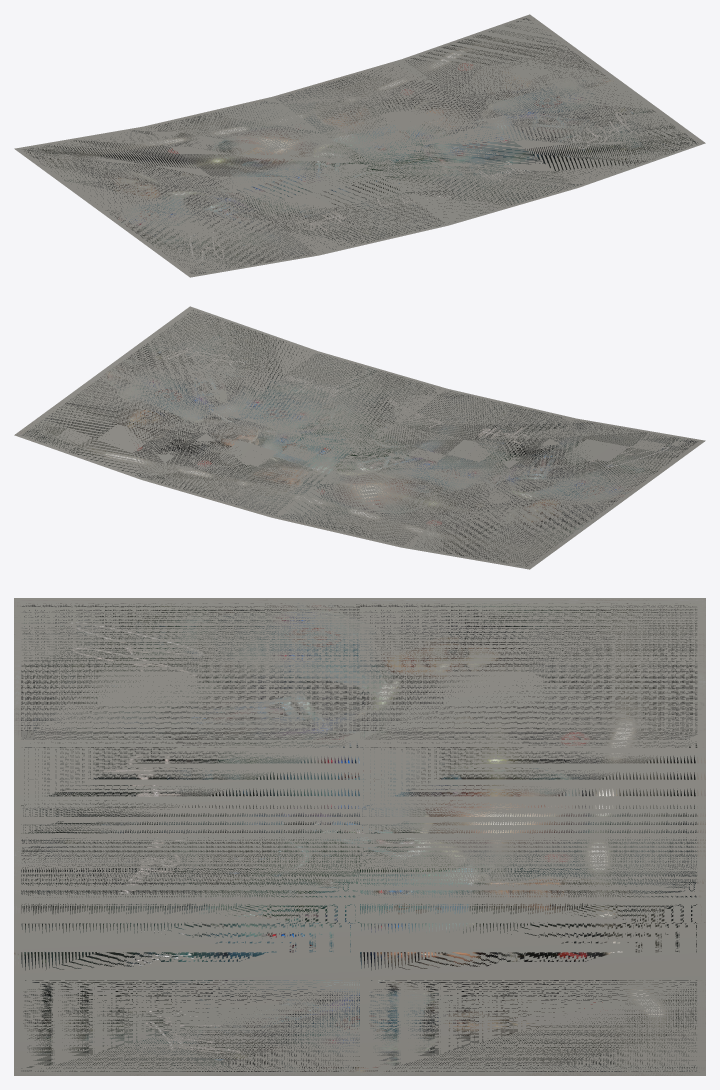
The model's file is photo_theta_personnel.dae.
The picture shows the model from 3 angles, top to bottom: view 1: azimuth 30°, elevation 25°; view 2: azimuth 150°, elevation 25°; view 3: azimuth 270°, elevation 25°; orthographic projection. The views are drawn at different scales.
Parts seen in each view (by area): view 1: Mesh; view 2: Mesh; view 3: Mesh.
Part boxes in pixels (x1,y1,x2,y2): Mesh: (14, 14, 705, 277); Mesh: (14, 306, 705, 569); Mesh: (14, 598, 705, 1075).
Size of the model in its own units: 0.2485 by 0.00901 by 0.147.
